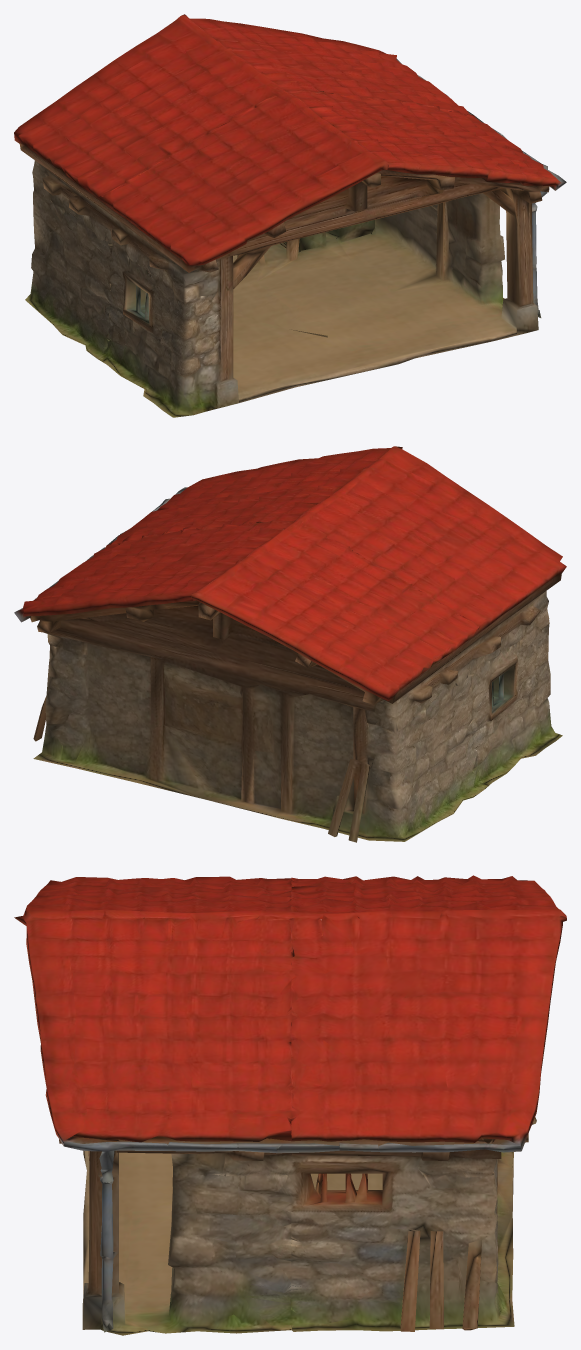
The model's file is garaj.glb.
3 views of the same model, one above another, from view 1: azimuth 30°, elevation 25°; view 2: azimuth 150°, elevation 25°; view 3: azimuth 270°, elevation 25° (orthographic). The views are drawn at different scales.
Parts seen in each view (by area): view 1: tripo_node_91877a34-6f26-4b93-a23e-3b823c6836c4; view 2: tripo_node_91877a34-6f26-4b93-a23e-3b823c6836c4; view 3: tripo_node_91877a34-6f26-4b93-a23e-3b823c6836c4.
Boxes of the visible parts, <box> form: tripo_node_91877a34-6f26-4b93-a23e-3b823c6836c4: <box>14,14,566,417</box>; tripo_node_91877a34-6f26-4b93-a23e-3b823c6836c4: <box>14,446,566,842</box>; tripo_node_91877a34-6f26-4b93-a23e-3b823c6836c4: <box>14,875,566,1335</box>.
Bounding box in the file's own units: 0.9782 × 0.5546 × 0.9059.
1 material, 1 textured.
